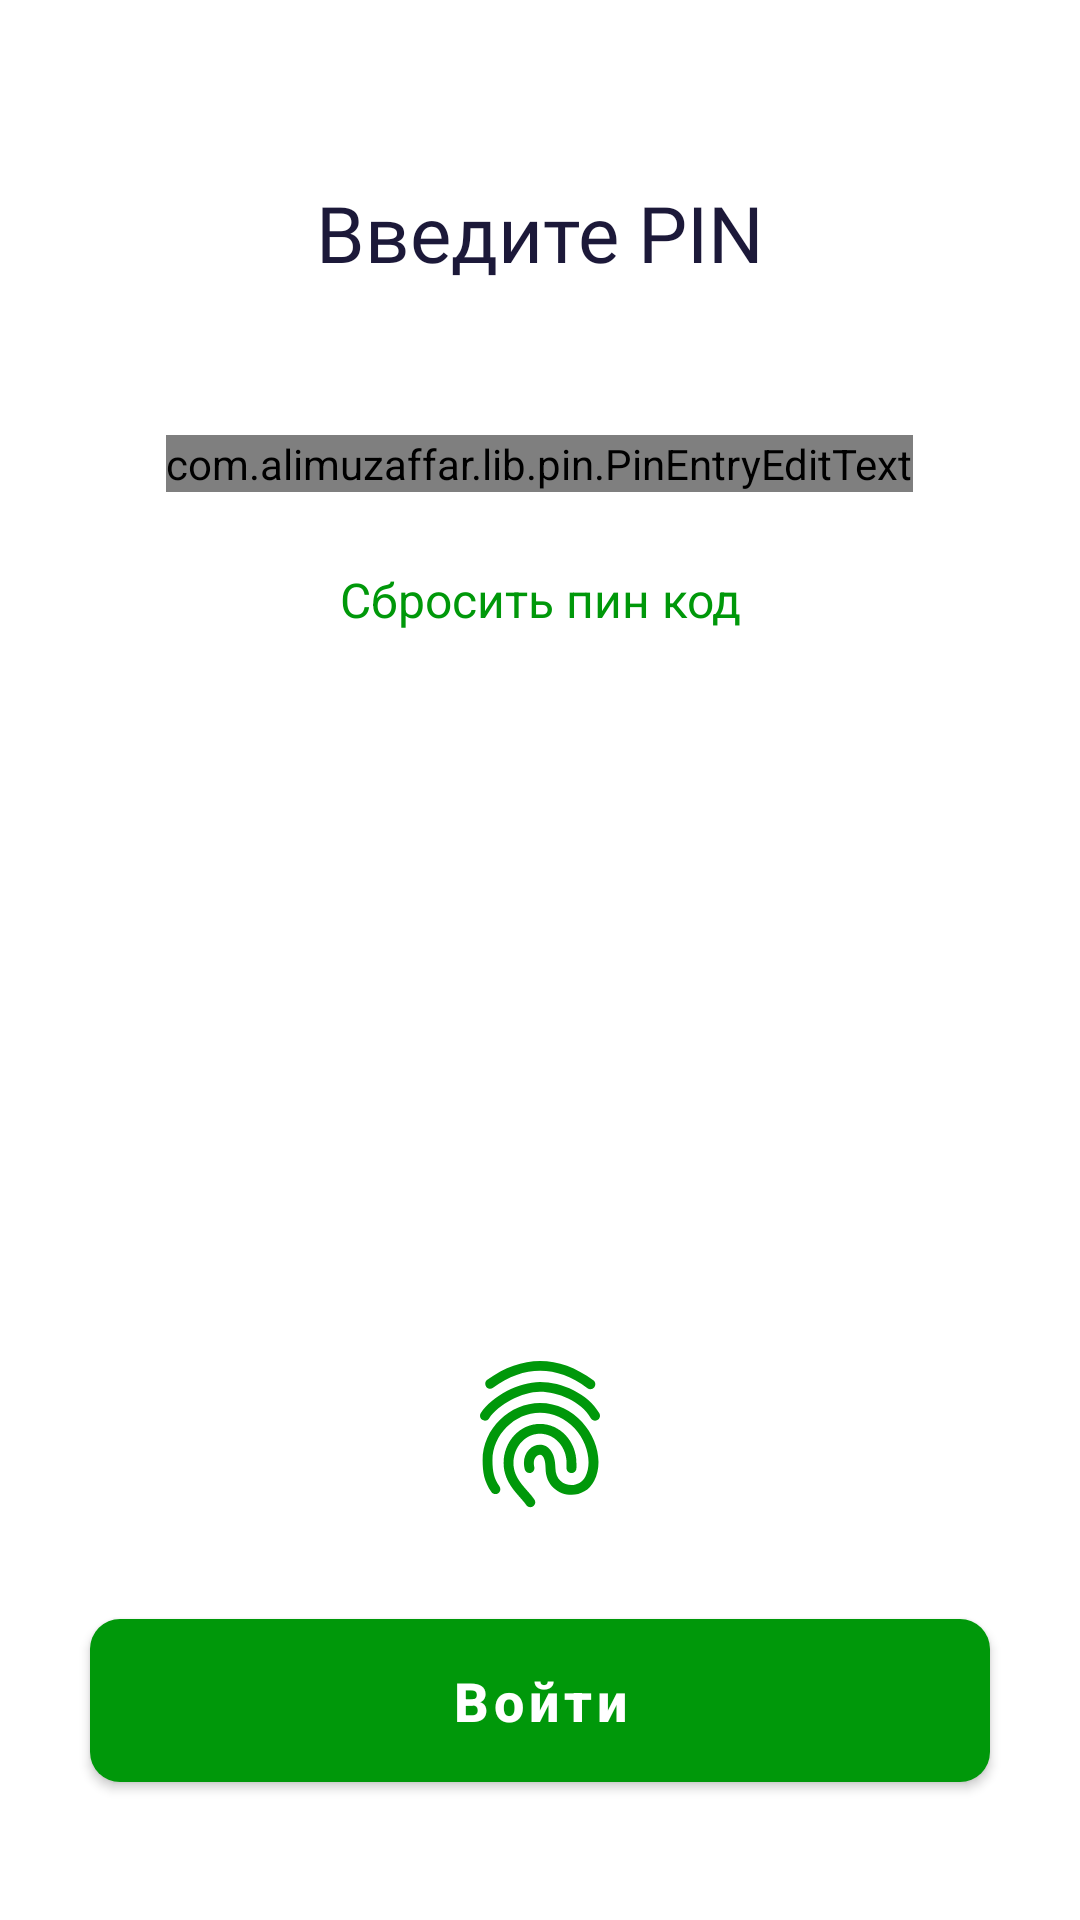

Named icons in this screenshot (1080px×1920px) and their bounding boxes, (x1, y1, x2, y2):
print finger: (480, 1361, 600, 1508)
